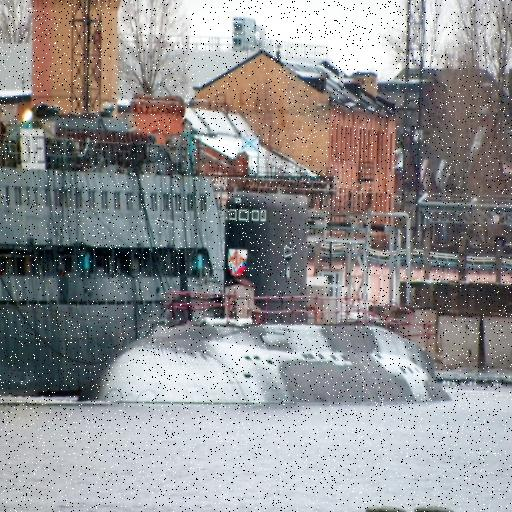submarine: (73, 190, 451, 406)
